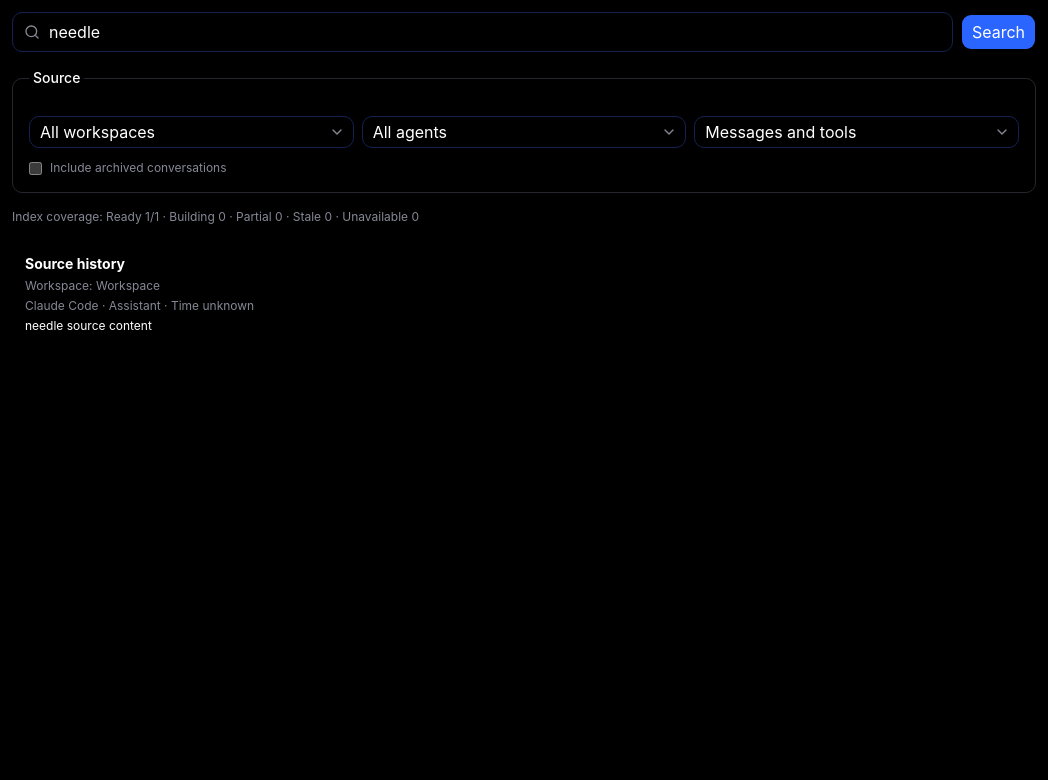
Test: explicit history session opening › rejects a source whose content changed before opening
Click the button "Source history": (75, 264) [12,241,1036,347]
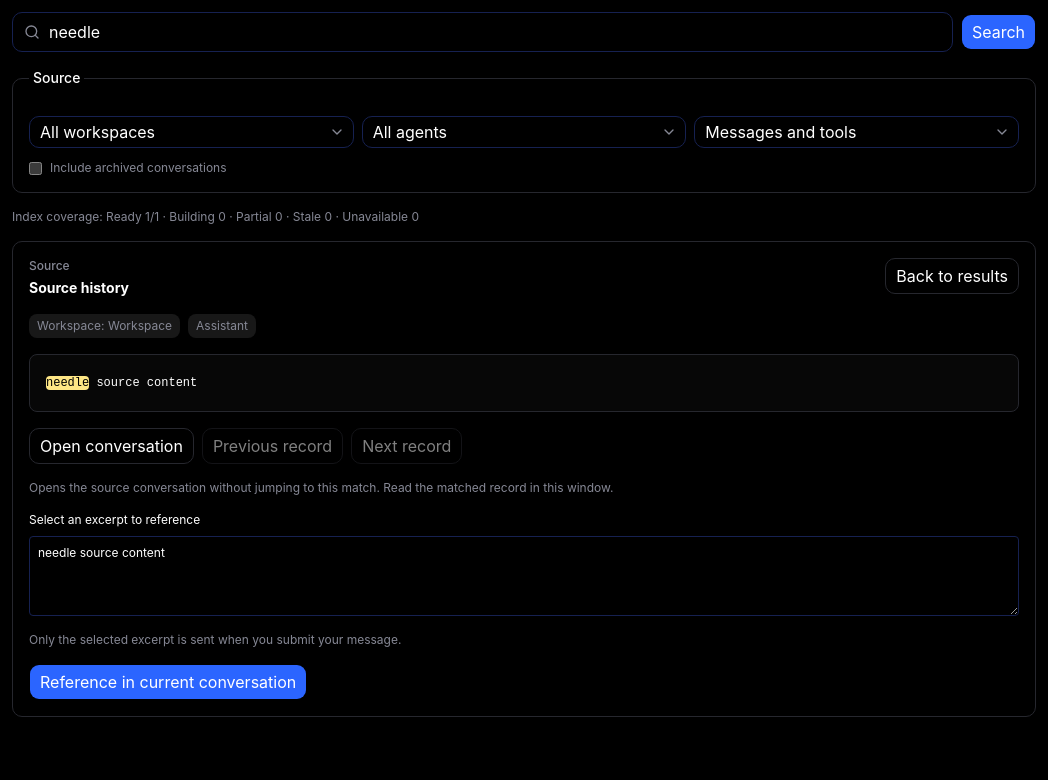
Now the element "Source" is shown, box [12,241,1036,717]
Click the button "Open conversation": (111, 446) [29,428,194,464]
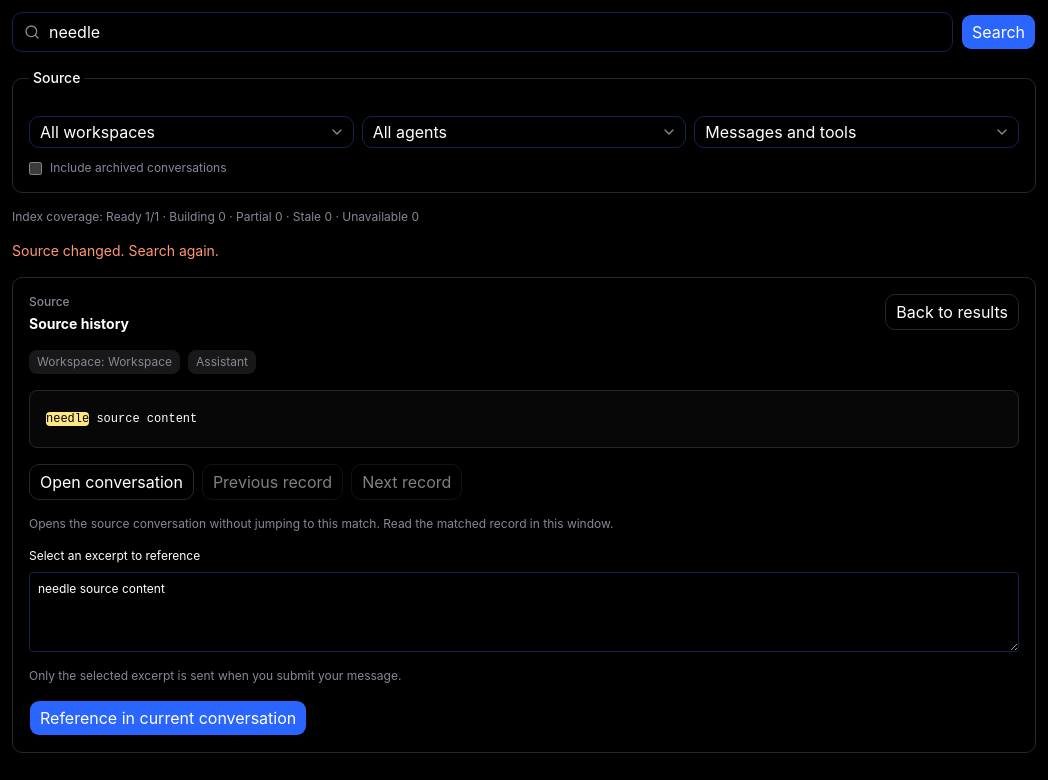
Now the button "Open conversation" is enabled, box [29,464,194,500]
Now the message "Source changed. Search again." is shown, box [12,242,219,259]
